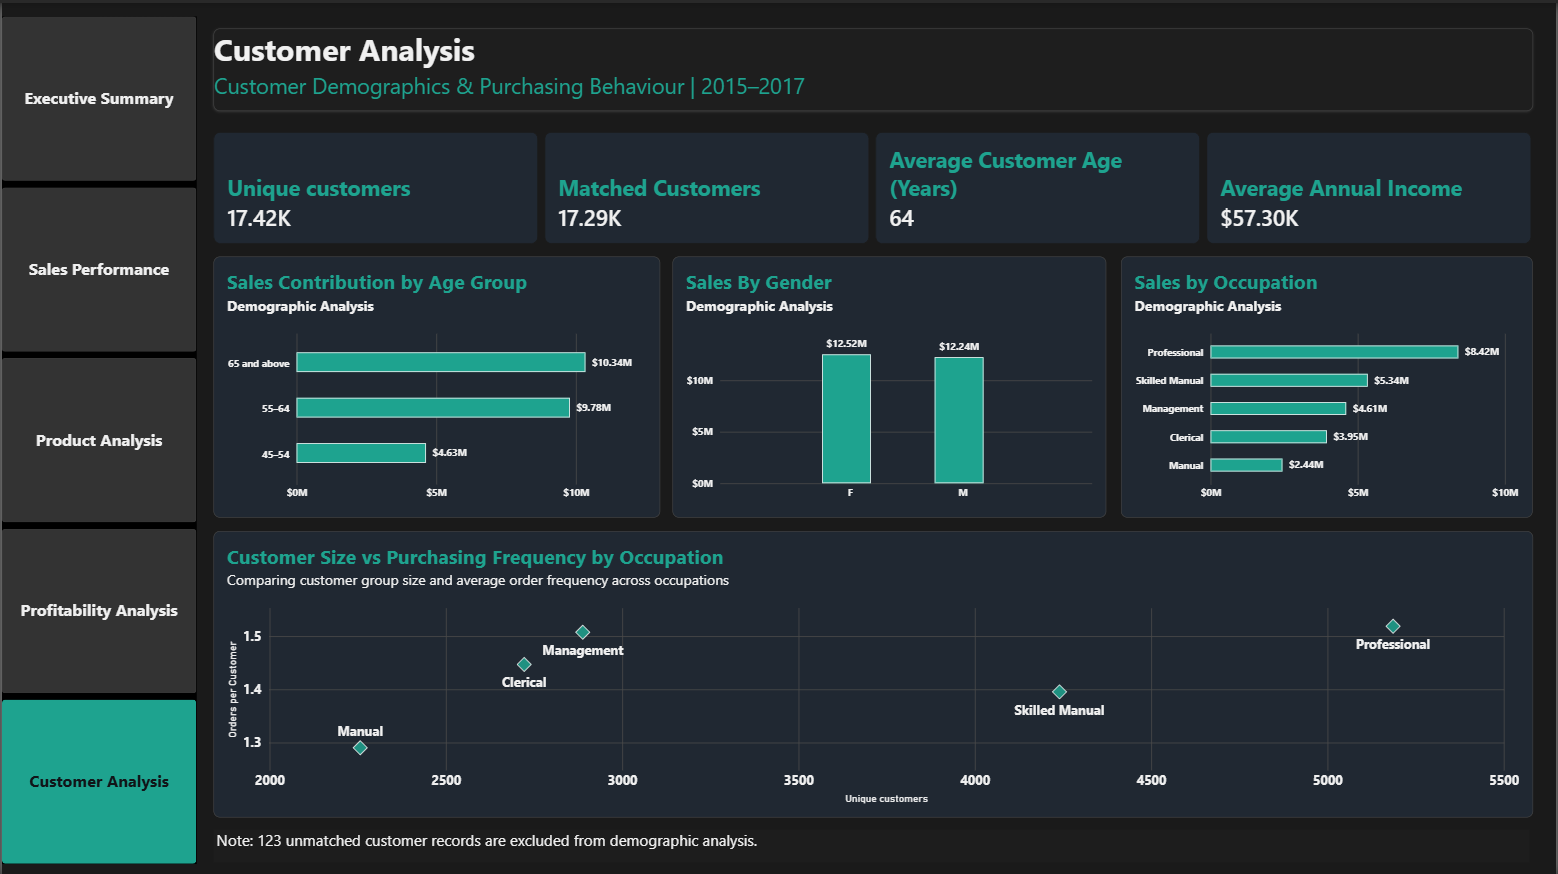

This screenshot's page, from the dashboard's own definition file:
{"tool":"powerbi","page":{"name":"Customer Analysis","canvas":[1920,1080],"ordinal":4},"visuals":[{"type":"pageNavigator","box":[0,15.9,240.8,1047.1],"z":0},{"type":"textbox","title":"Customer Analysis","box":[261.2,31.8,1630.8,102.2],"z":1000},{"type":"cardVisual","fields":{"Data":["Sales.Unique customers","Unmatched Customer Keys.Matched Customers","Customers.Average Age Group","Customers.Average Annual Income"]},"box":[261.2,159,1630.8,138.5],"z":2000},{"type":"clusteredBarChart","title":"Sales Contribution by Age Group","fields":{"Category":["Customers.Age Group"],"Y":["Sales.Total sales"]},"box":[261.2,313.4,551.9,322.5],"z":3000},{"type":"clusteredColumnChart","title":"Sales By Gender","fields":{"Category":["Customers.Gender"],"Y":["Sales.Total sales"]},"box":[829,313.4,536,322.5],"z":4000},{"type":"clusteredBarChart","title":"Sales by Occupation","fields":{"Category":["Customers.Occupation"],"Y":["Sales.Total sales"]},"box":[1383.2,313.4,508.8,322.5],"z":5000},{"type":"scatterChart","title":"Customer Size vs Purchasing Frequency by Occupation","fields":{"Category":["Customers.Occupation"],"X":["Sales.Unique customers"],"Y":["Sales.Orders per Customer"]},"box":[261.2,651.9,1630.8,354.3],"z":6000},{"type":"textbox","box":[261.2,1022.1,1626.3,40.9],"z":6001}]}

Visuals, with their boxes in screenshot pixels (x1, y1, x2, y2), scaled from the page's 1920x1080 canvas onto the 1558x874 screenshot:
pageNavigator: box=[0, 13, 195, 860]
"Customer Analysis" textbox: box=[212, 26, 1535, 108]
cardVisual - Sales.Unique customers x Unmatched Customer Keys.Matched Customers: box=[212, 129, 1535, 241]
"Sales Contribution by Age Group" clusteredBarChart: box=[212, 254, 660, 515]
"Sales By Gender" clusteredColumnChart: box=[673, 254, 1108, 515]
"Sales by Occupation" clusteredBarChart: box=[1122, 254, 1535, 515]
"Customer Size vs Purchasing Frequency by Occupation" scatterChart: box=[212, 528, 1535, 814]
textbox: box=[212, 827, 1532, 860]
